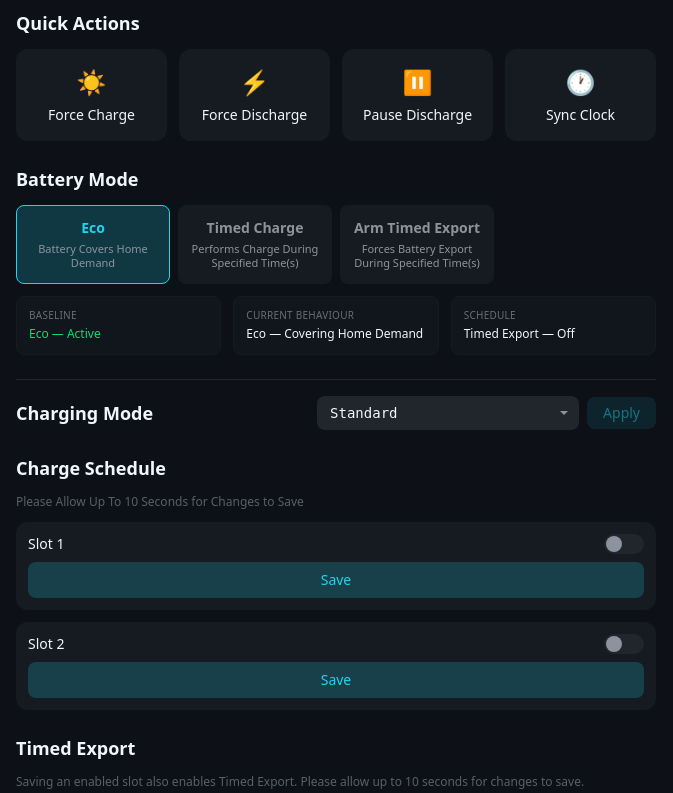
ControlPage Eco / Timed Export presentation › Timed Export control button (single toggle, Arm/Stop semantics) › shows the error variant, not active, when the arm request is rejected
This screenshot has width=673, height=793.
Click the button "Timed Export" at [417, 244], box [340,204,494,284]
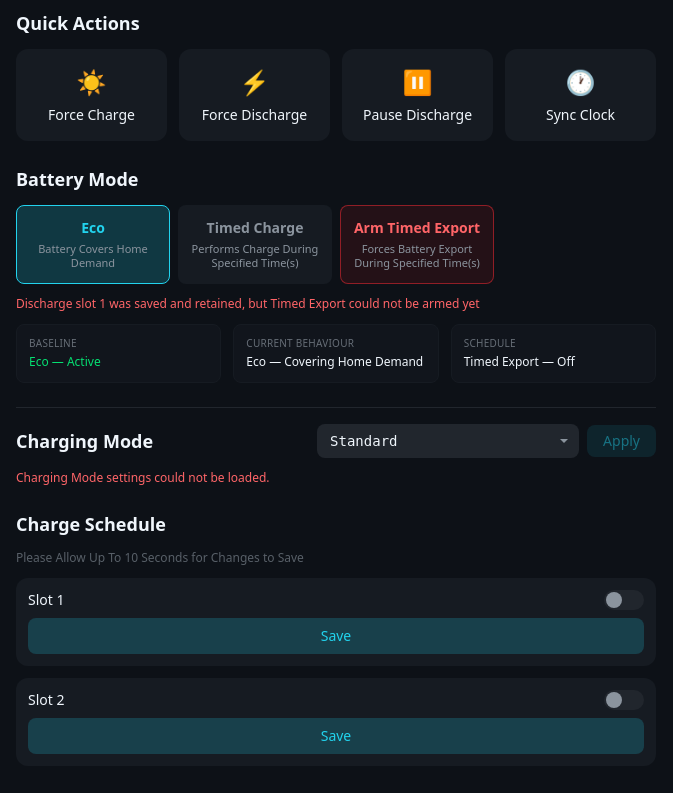
Expected: the message "Charging Mode settings could not be loaded." is shown, [16,469,270,486]
